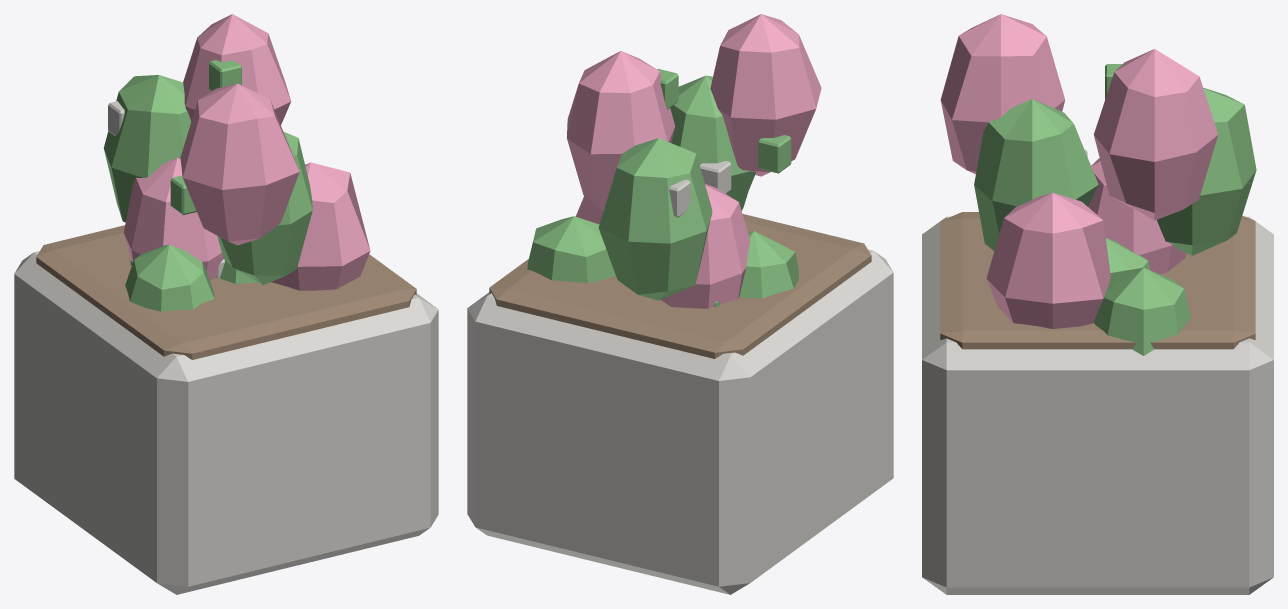
File: b08_concrete_mixed_planter.glb
3 views of the same model, side by side, from view 1: azimuth 30°, elevation 25°; view 2: azimuth 150°, elevation 25°; view 3: azimuth 270°, elevation 25° (orthographic). The views are drawn at different scales.
Visible parts, largest first — view 1: b08_concrete_mixed_planter; view 2: b08_concrete_mixed_planter; view 3: b08_concrete_mixed_planter.
Part boxes in pixels (x1,y1,x2,y2): b08_concrete_mixed_planter: [14, 14, 438, 594]; b08_concrete_mixed_planter: [467, 14, 893, 594]; b08_concrete_mixed_planter: [922, 14, 1273, 594].
Size of the model in its own units: 0.951 by 1.52 by 0.969.
